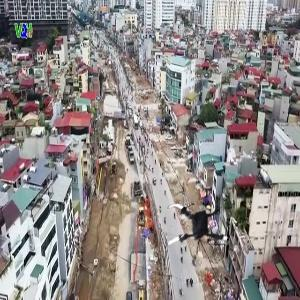drone: (162, 190, 238, 266)
